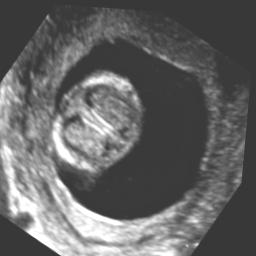normal: (25, 48, 162, 190)
